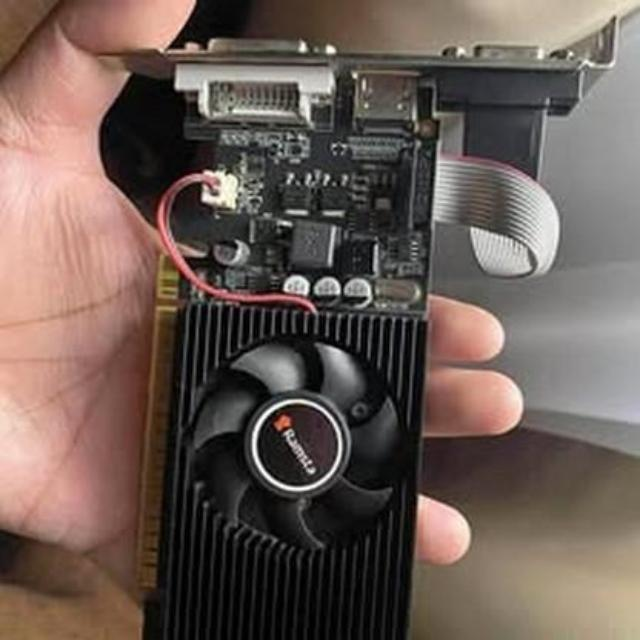GPU: (96, 32, 456, 640)
